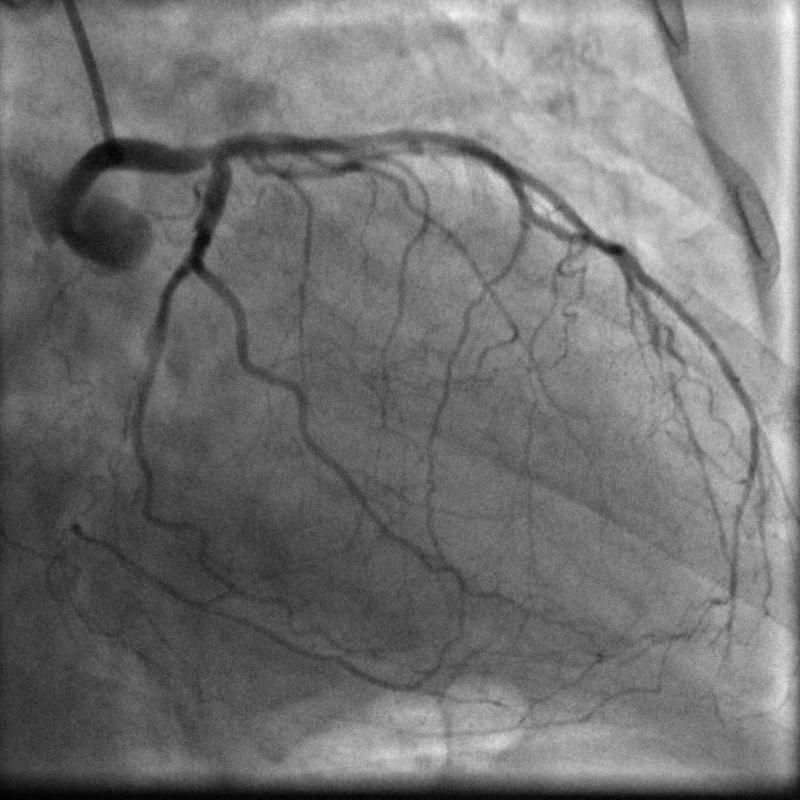Stenosis: (370, 133, 458, 164)
